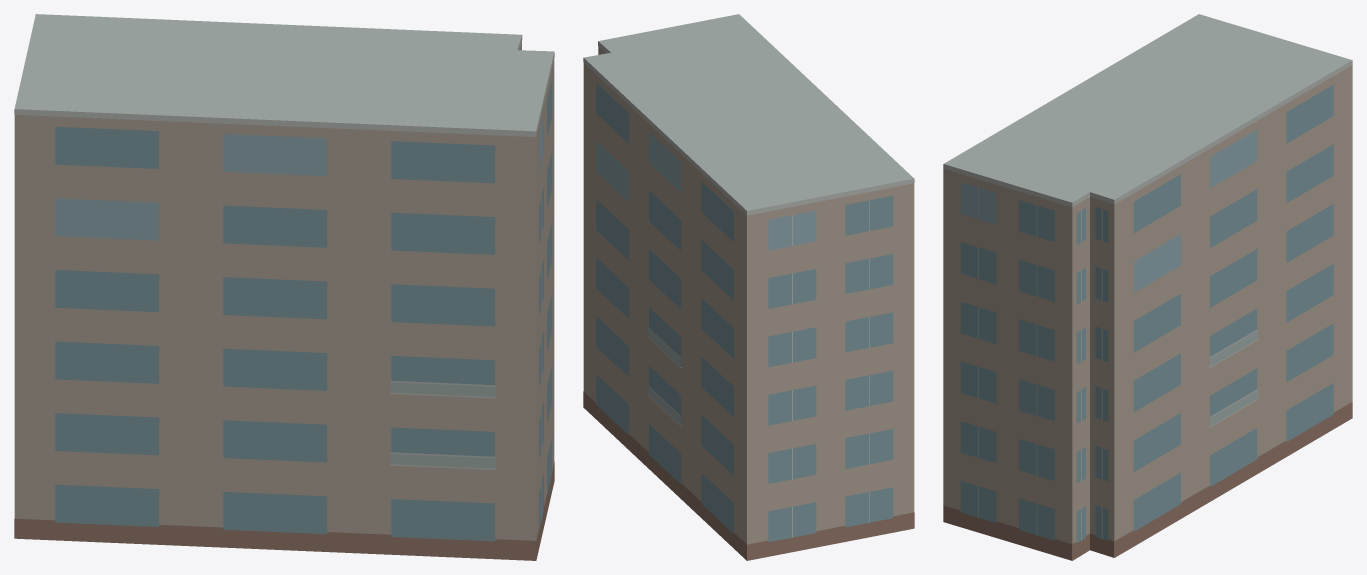
File: survey-upis-32902820.glb
3 renders of one model, left to right at view 1: azimuth 30°, elevation 25°; view 2: azimuth 150°, elevation 25°; view 3: azimuth 270°, elevation 25°, orthographic. The views are drawn at different scales.
Parts seen in each view (by area): view 1: survey-upis-32902820.tmp; view 2: survey-upis-32902820.tmp; view 3: survey-upis-32902820.tmp.
Boxes of the visible parts, left/top/right/bottom form: survey-upis-32902820.tmp: left=14, top=14, right=554, bottom=560; survey-upis-32902820.tmp: left=583, top=14, right=914, bottom=560; survey-upis-32902820.tmp: left=943, top=14, right=1352, bottom=560.
Bounding box in the file's own units: 20.7 × 18.3 × 18.95.
